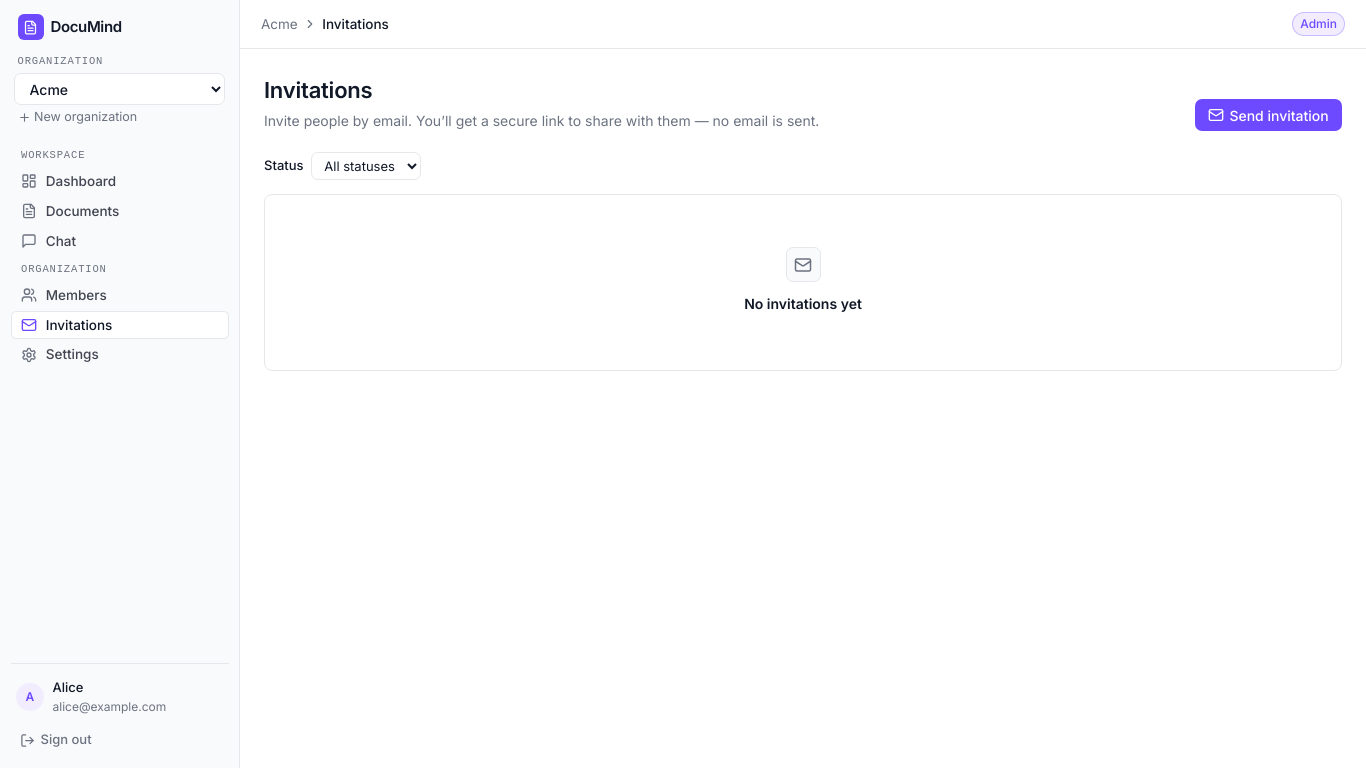
Test case: Invitations panel (admin) › reports a clipboard failure and selects the link for manual copy
The width and height of the screenshot is (1366, 768).
Expected: the heading "Invitations" is shown, [264, 77, 372, 103]
Click the button "Send invitation" at x=1268, y=115, box [1195, 99, 1342, 131]
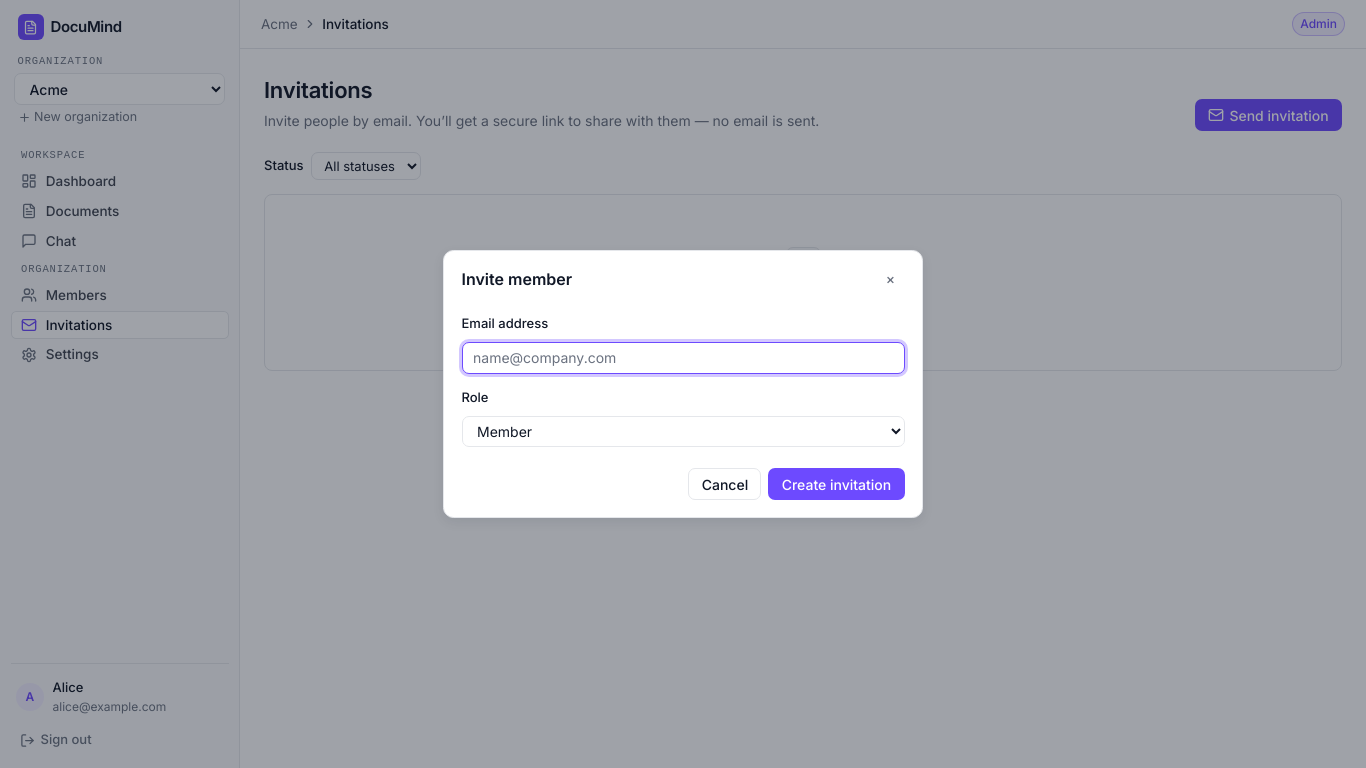
Type "carol@example.com" into the field labelled "Email address" at x=683, y=358, box [462, 342, 904, 374]
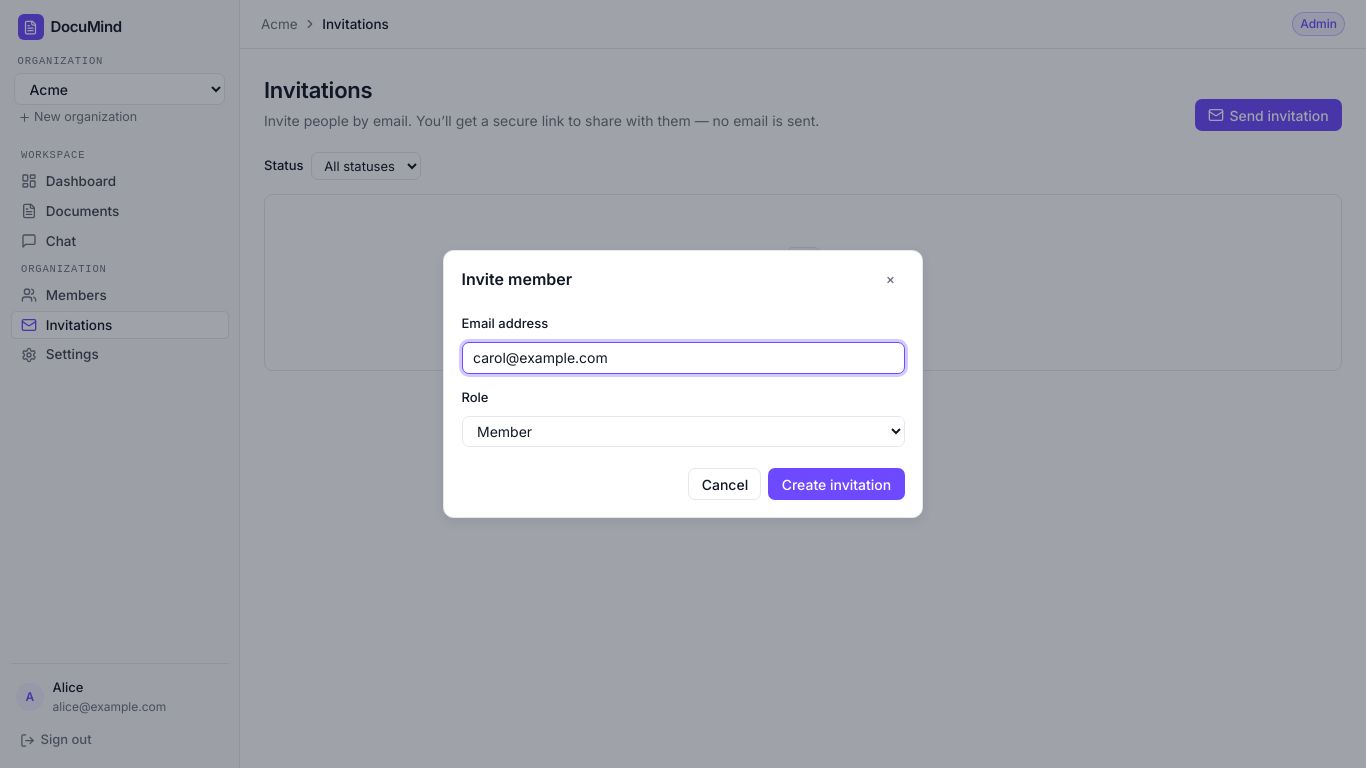
Click the button "Create invitation" at x=836, y=484, box [768, 468, 904, 500]
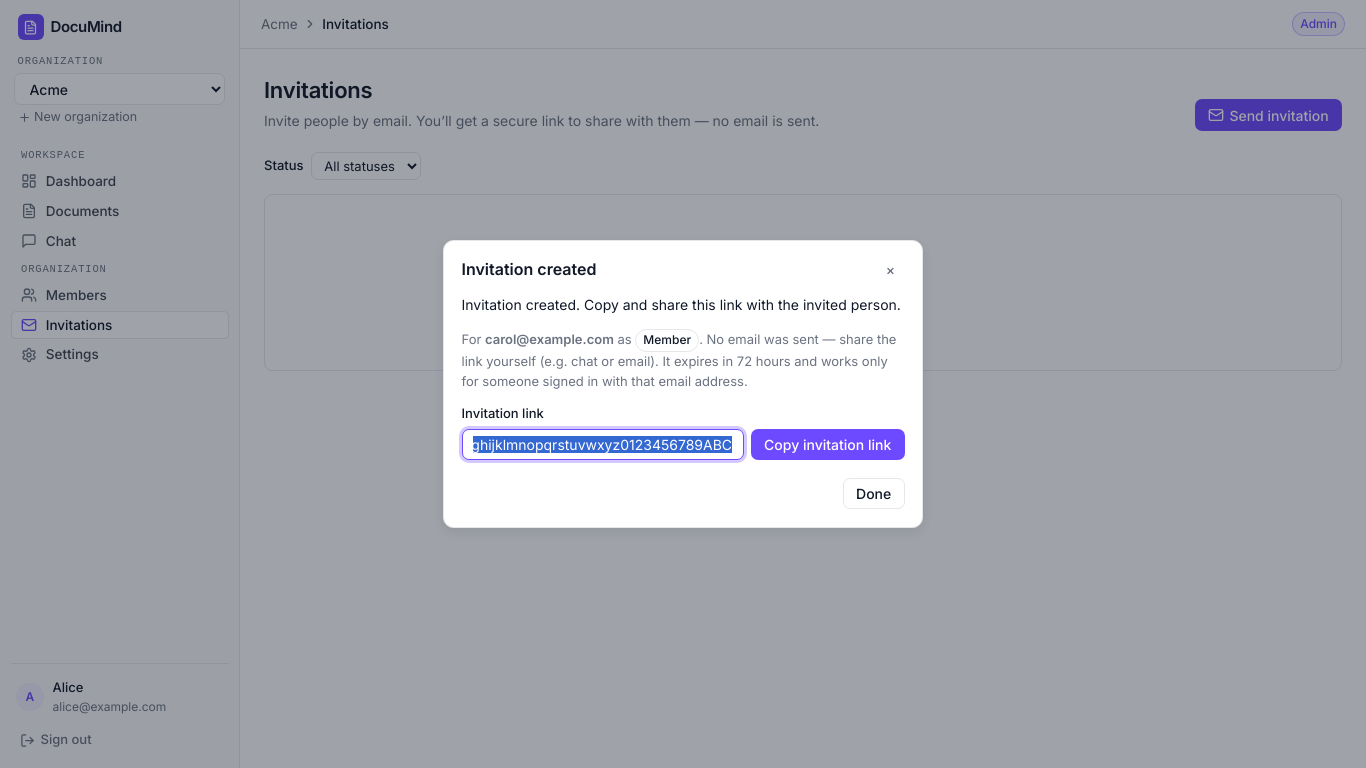
Click the button "Copy invitation link" at x=828, y=445, box [751, 429, 904, 460]
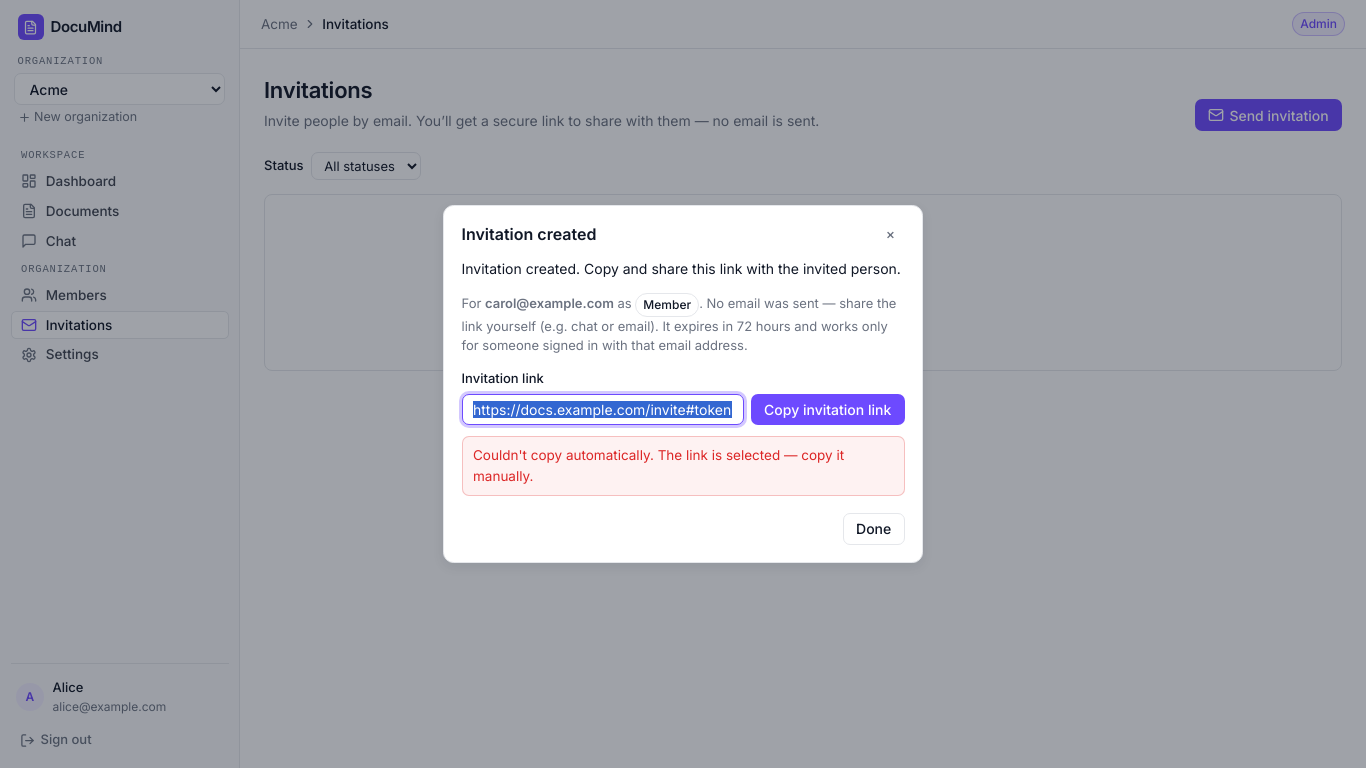
Now the message shows "Couldn't copy automatically", box [473, 447, 844, 484]
